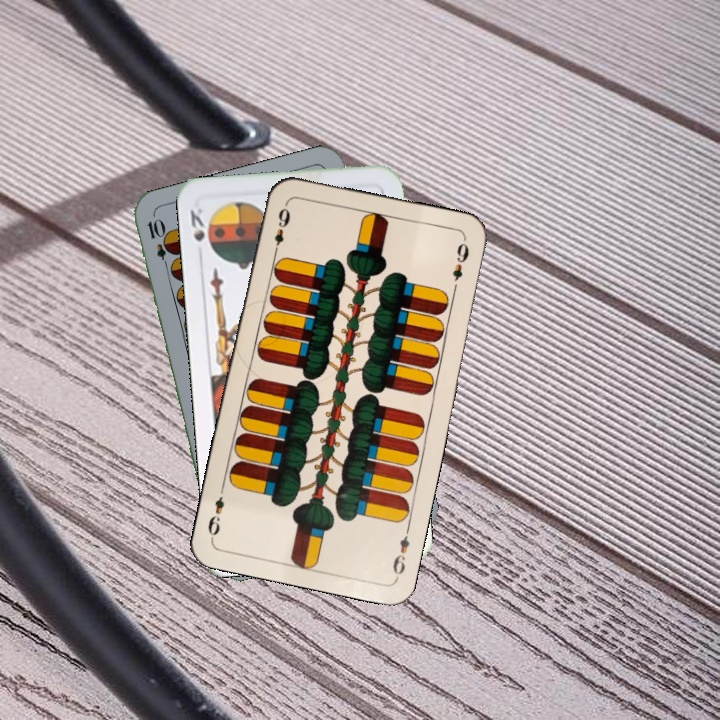E10: (143, 215, 174, 273)
E9: (269, 199, 293, 258), (389, 522, 413, 581)
SK: (186, 202, 214, 253)
